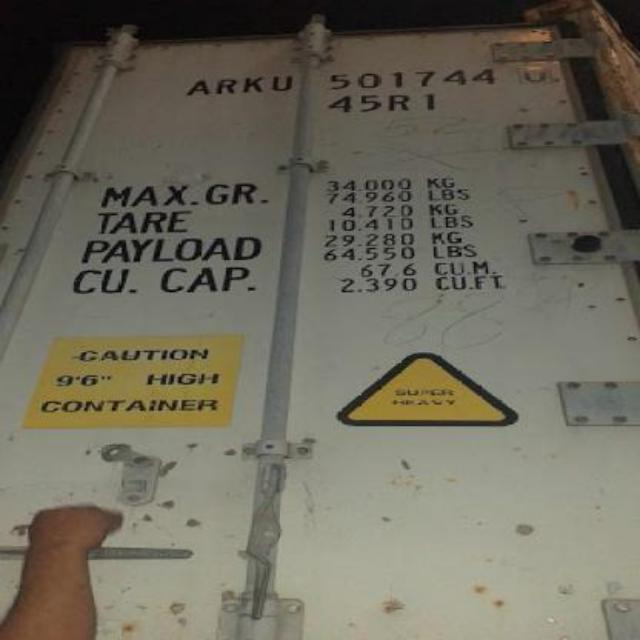0: (520, 62, 552, 88), (354, 65, 382, 91)
1: (386, 63, 410, 93)
4: (468, 63, 502, 93), (440, 61, 472, 90)
5: (326, 68, 352, 92)
7: (410, 61, 438, 91)
A: (182, 75, 210, 99)
K: (238, 74, 264, 96)
R: (210, 75, 238, 99)
U: (266, 72, 296, 96)
